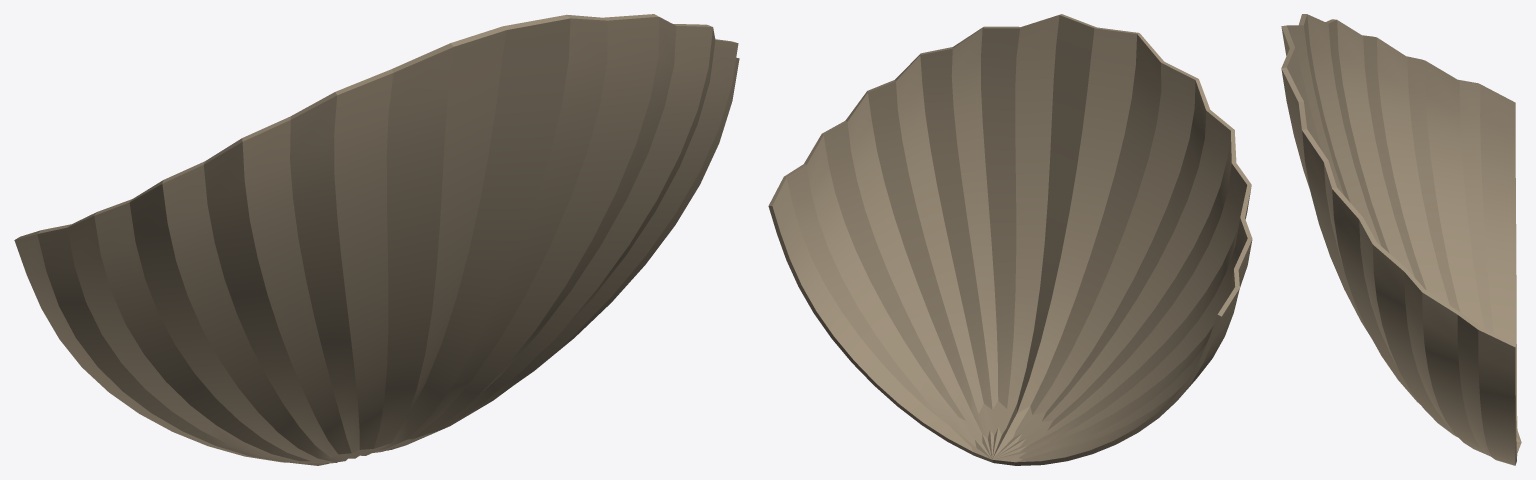
The model's file is Lamp.fbx.
3 renders of one model, left to right at view 1: azimuth 30°, elevation 25°; view 2: azimuth 150°, elevation 25°; view 3: azimuth 270°, elevation 25°, orthographic. The views are drawn at different scales.
Visible parts, largest first — view 1: Lamp; view 2: Lamp; view 3: Lamp.
Boxes of the visible parts, x1,y1,x2,y2 form: Lamp: (14, 14, 739, 465); Lamp: (768, 14, 1252, 465); Lamp: (1281, 14, 1521, 465).
Size of the model in its own units: 107 by 81.42 by 44.27.
